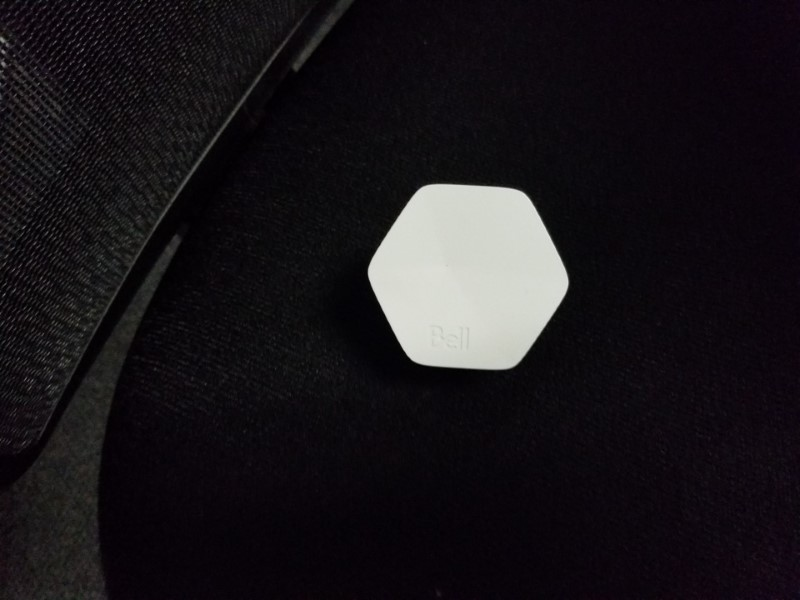pod: (364, 181, 575, 374)
